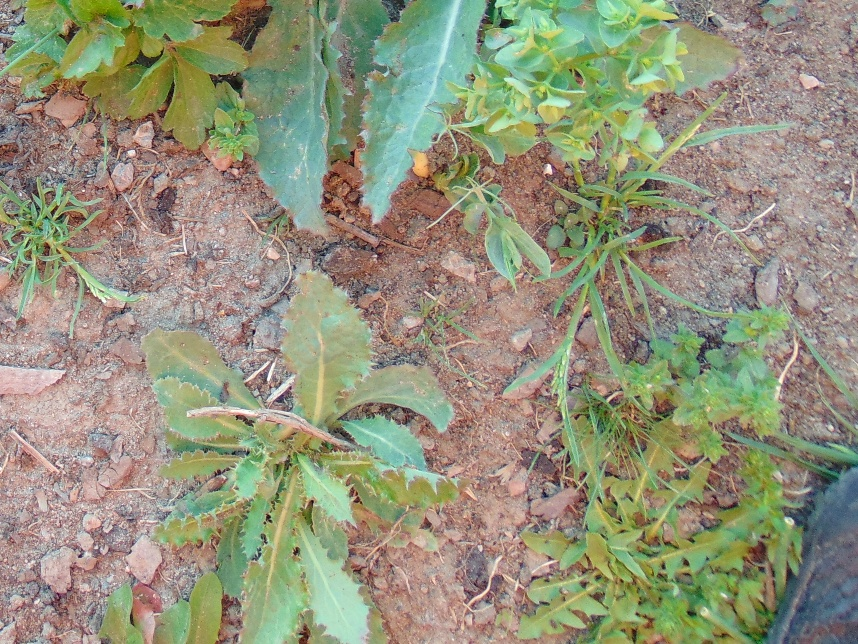crop: (444, 169, 550, 285), (420, 100, 514, 168)
weed: (149, 270, 470, 642), (5, 1, 452, 231), (519, 392, 794, 642), (360, 1, 744, 120), (542, 92, 736, 326), (542, 300, 802, 423), (1, 180, 124, 318), (97, 571, 225, 644)
